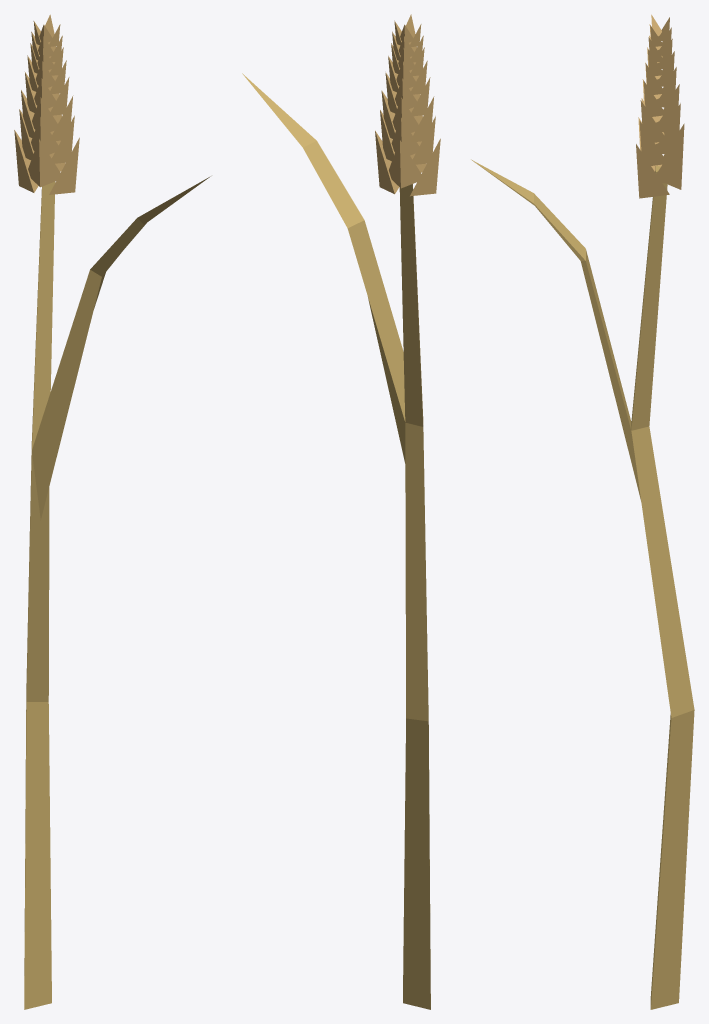
The model's file is wheat5.fbx.
3 renders of one model, left to right at view 1: azimuth 30°, elevation 25°; view 2: azimuth 210°, elevation 25°; view 3: azimuth 270°, elevation 25°, orthographic.
Parts seen in each view (by area): view 1: Cylinder.003; view 2: Cylinder.003; view 3: Cylinder.003.
Boxes of the visible parts, <box> form: Cylinder.003: <box>14,14,210,1009</box>; Cylinder.003: <box>242,14,440,1009</box>; Cylinder.003: <box>471,14,694,1009</box>.
Bounding box in the file's own units: 6.27 × 58.34 × 12.
